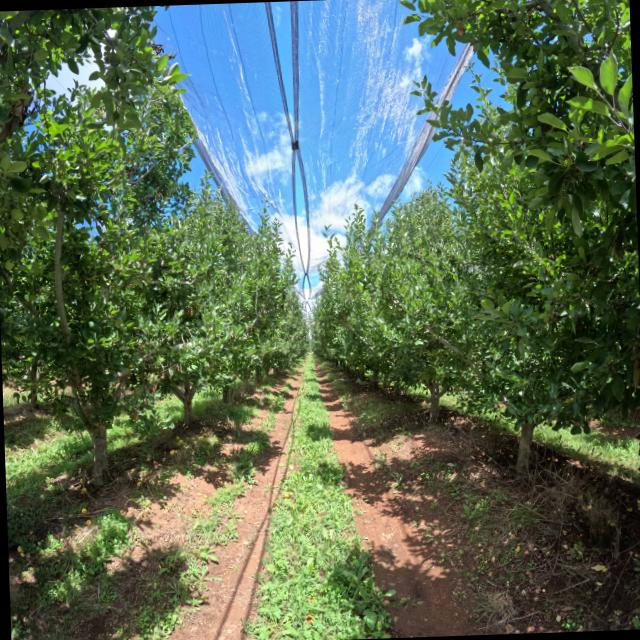-FireBlight-: (131, 362, 183, 423), (0, 86, 34, 145), (186, 304, 192, 316)
